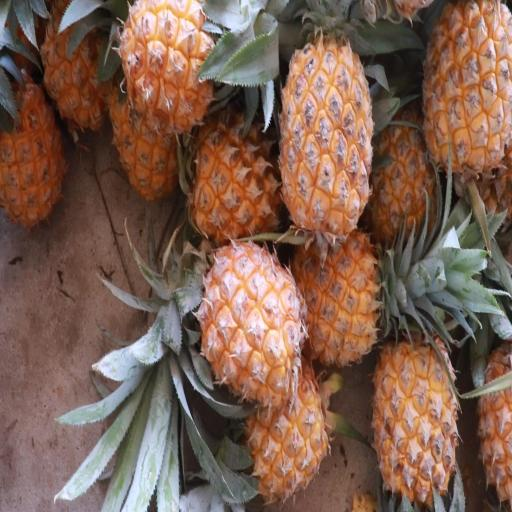Pineapple - v8 v1: (275, 0, 375, 243), (194, 235, 307, 417), (371, 298, 463, 507), (417, 1, 512, 182), (236, 334, 334, 506), (283, 220, 384, 369), (115, 0, 220, 140), (187, 98, 286, 244), (0, 45, 70, 231), (42, 6, 119, 148), (476, 300, 512, 501)
